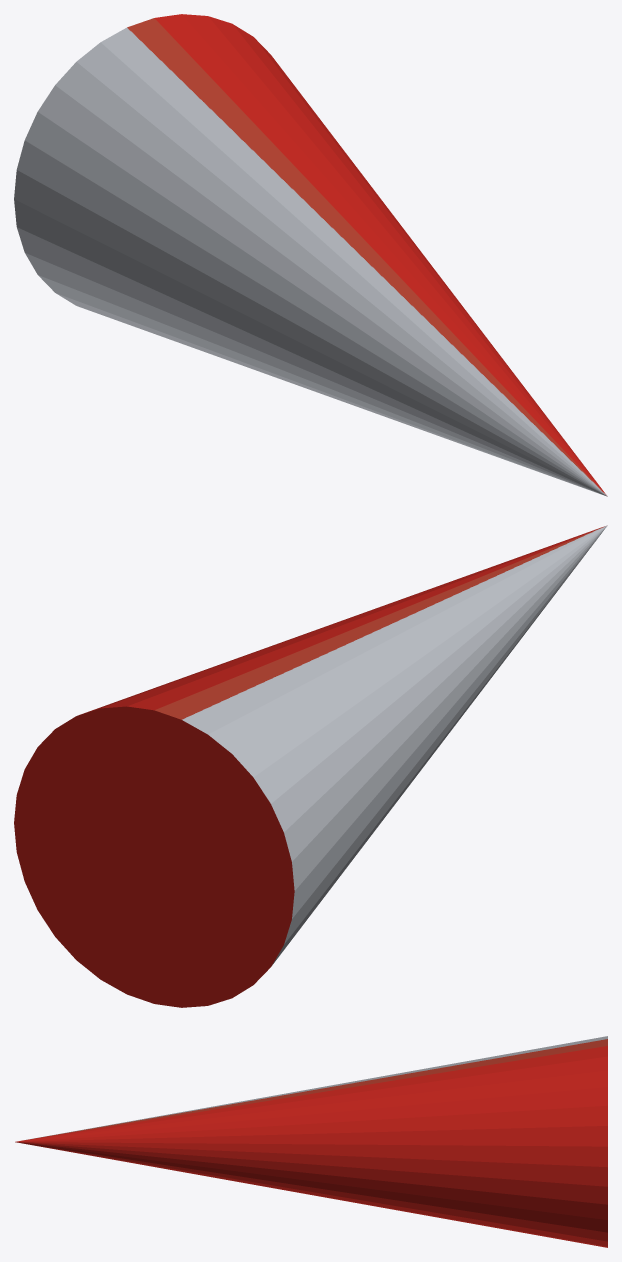
3 views of the same model, one above another, from view 1: azimuth 30°, elevation 25°; view 2: azimuth 150°, elevation 25°; view 3: azimuth 270°, elevation 25° (orthographic). The views are drawn at different scales.
Parts seen in each view (by area): view 1: link6; view 2: link6; view 3: link6.
Boxes of the visible parts, bbox=[...] form: link6: bbox=[14, 14, 607, 496]; link6: bbox=[14, 525, 607, 1007]; link6: bbox=[15, 1036, 607, 1247].
Bounding box in the file's own units: 0.05 × 0.05 × 0.14.
1 material, 1 textured.
